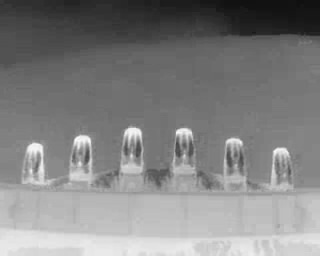claw: (119, 126, 145, 177), (172, 125, 196, 174), (223, 136, 246, 183), (69, 134, 92, 179), (21, 141, 45, 184), (271, 144, 294, 188)
